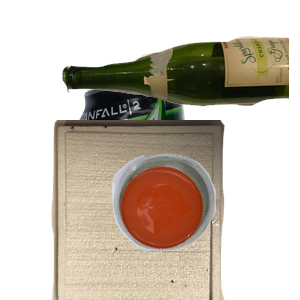glass: (60, 34, 300, 133)
metal: (74, 74, 257, 254)
plastic: (110, 152, 300, 300)
trash: (49, 120, 269, 300)
